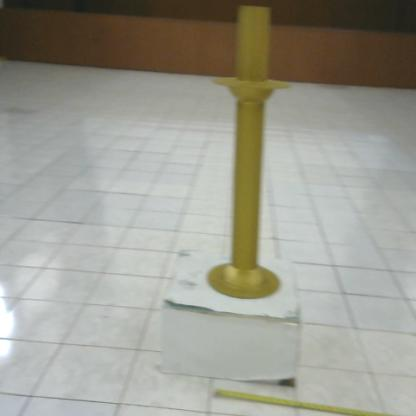pole: (204, 1, 295, 308)
